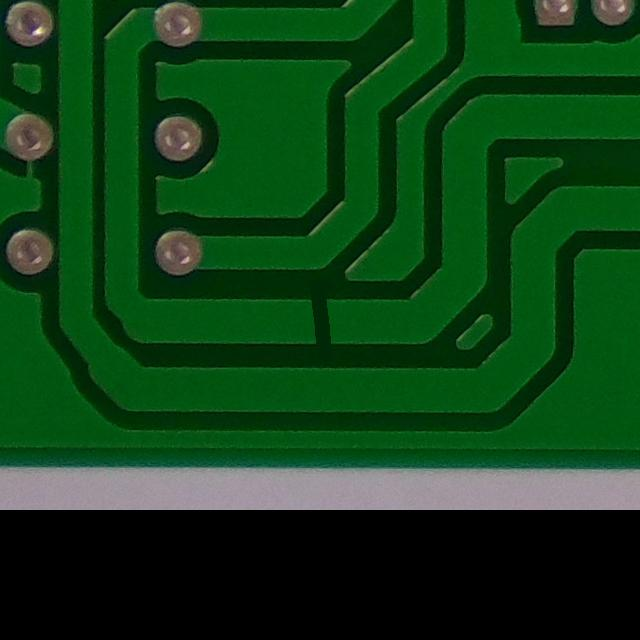open_circuit: (280, 281, 360, 359)
